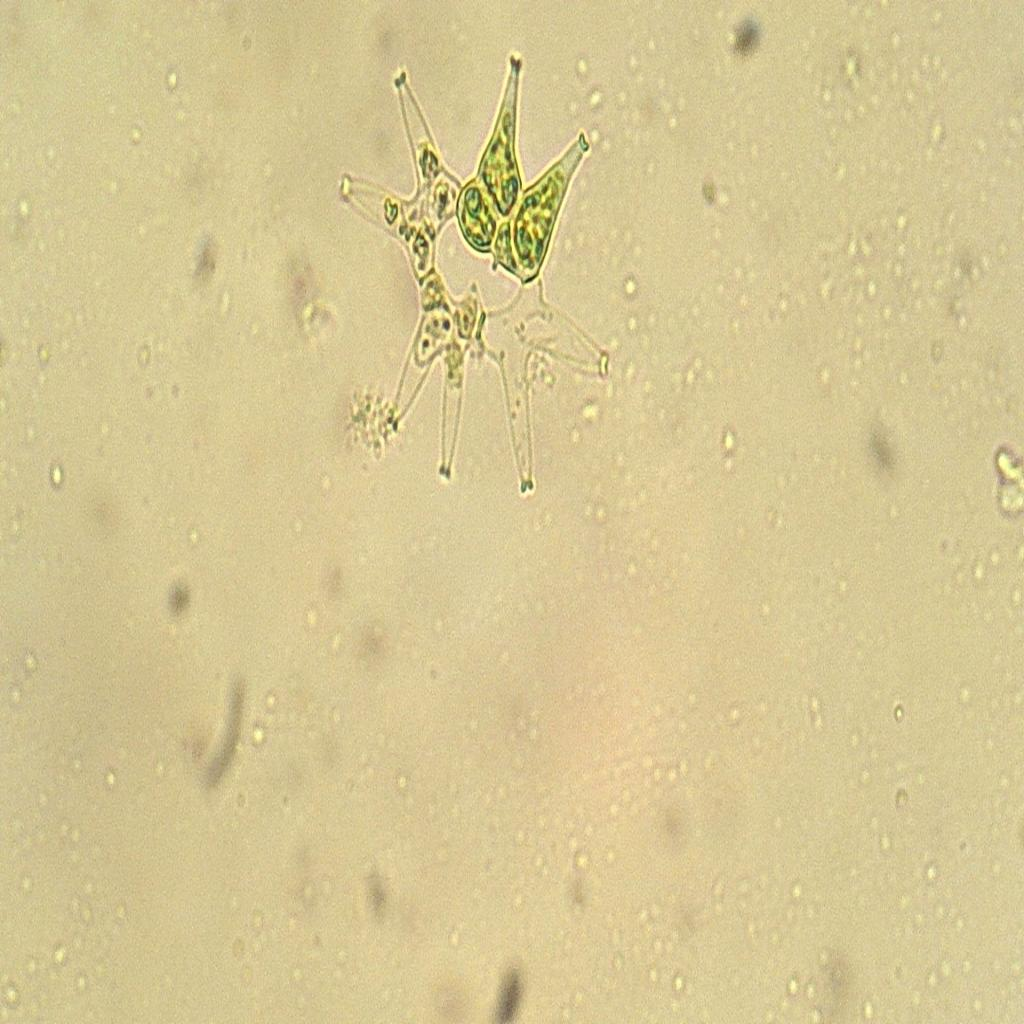Pediastrum_75TH: (322, 35, 624, 528)
